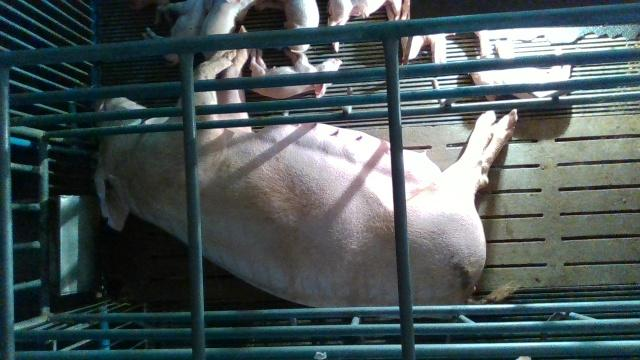piglet: (467, 41, 571, 101), (142, 0, 213, 65), (251, 49, 342, 99), (327, 0, 402, 53), (200, 0, 262, 60), (257, 0, 320, 52)
sow-sleep-lactate: (97, 27, 519, 319)
